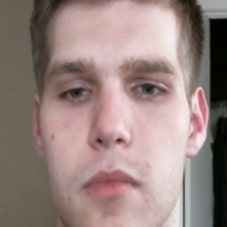drowsy: (44, 49, 181, 205)
